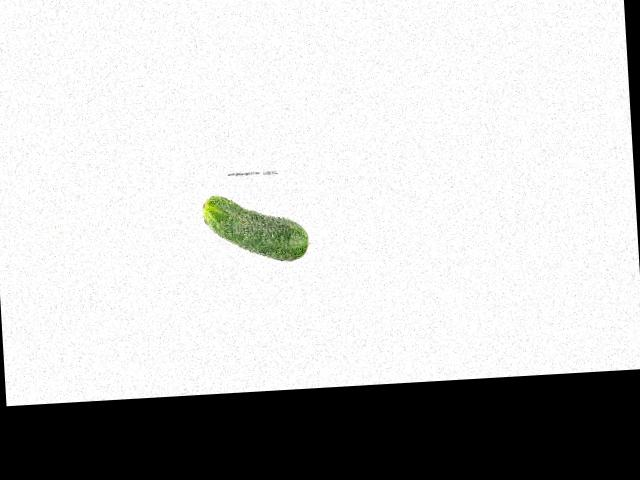cucumber: (202, 190, 310, 265)
